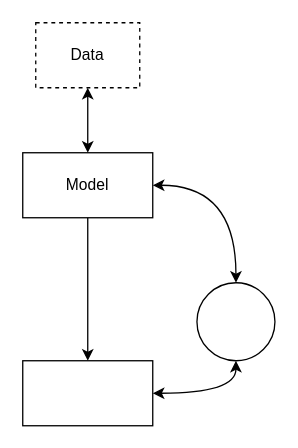
Some shapes in this 298 by 448 pixel diagram are drawn without their labels. Each missing label, with the centre of its shape:
Delegate: (x=235, y=321)
View: (x=87, y=392)
